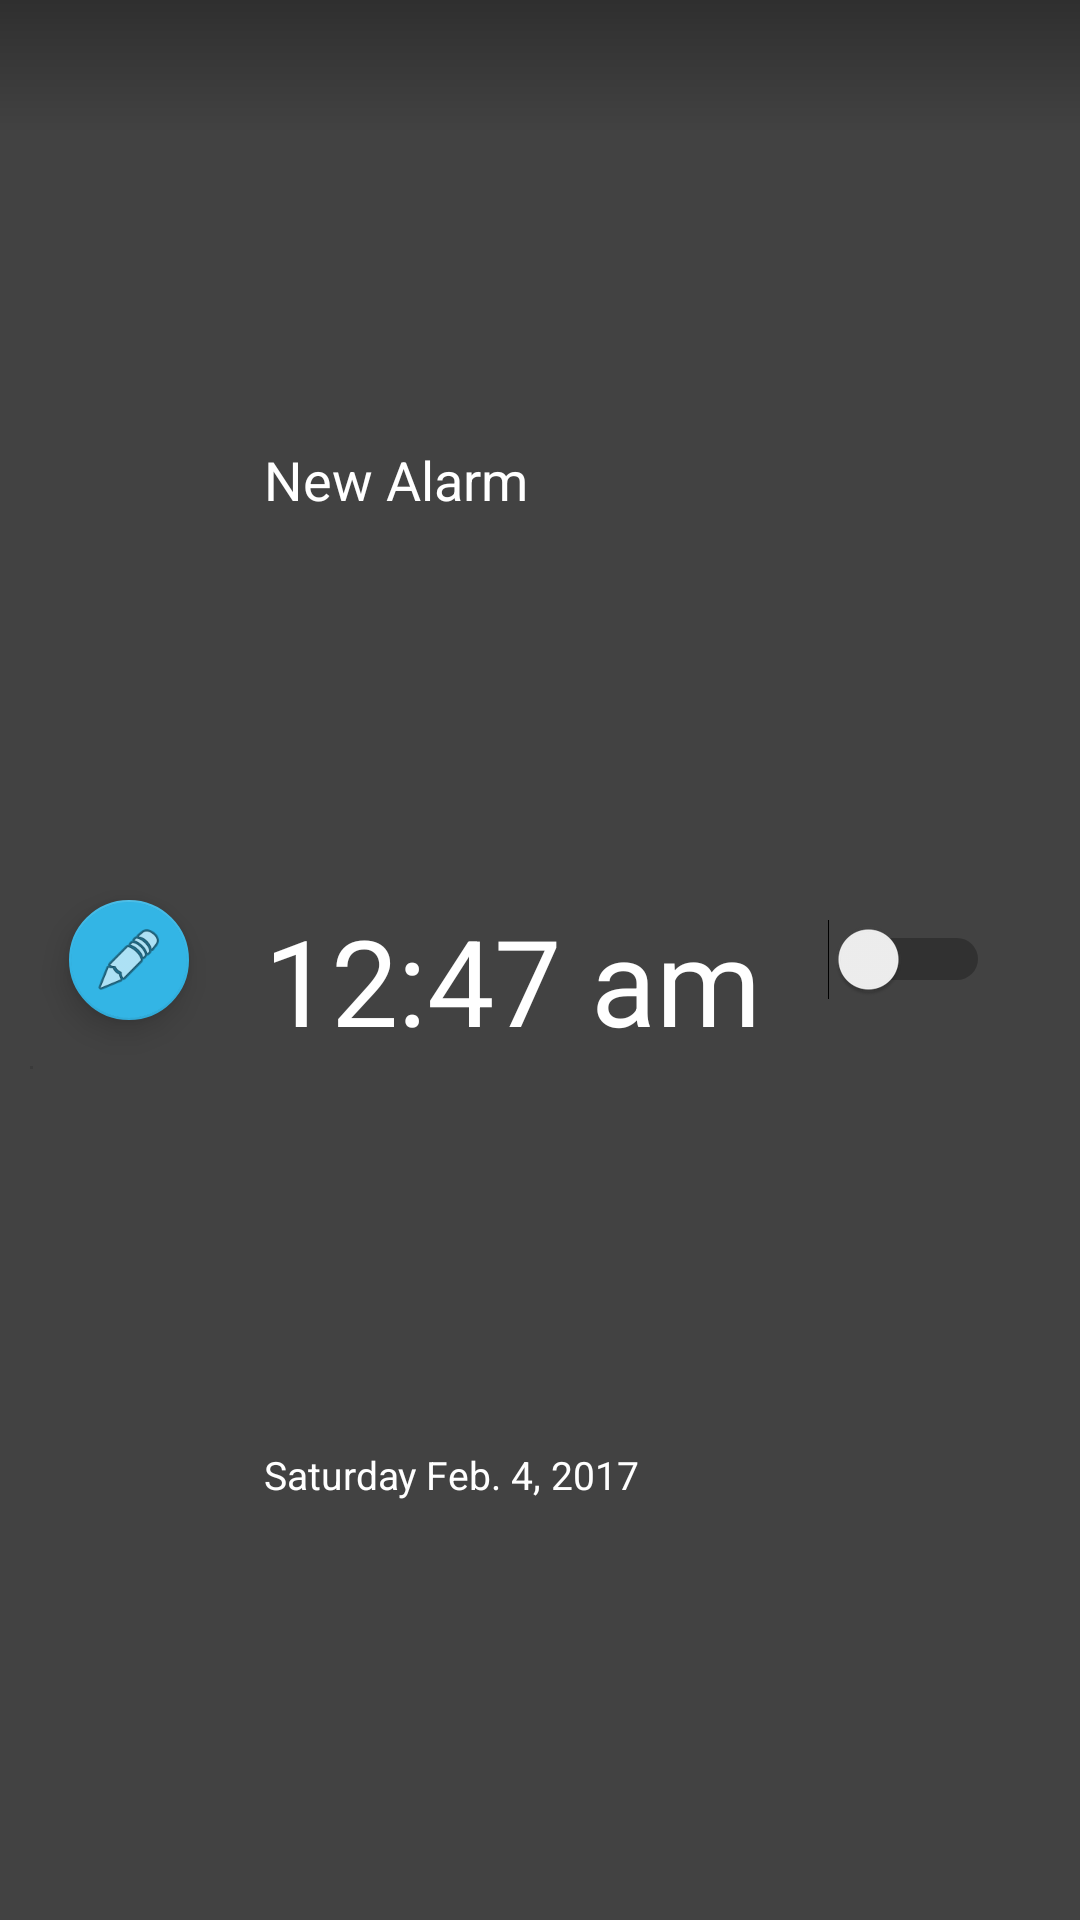

Named icons in this screenshot (1080 × 1920) and their centers, (x,y):
edit: (129,960)
